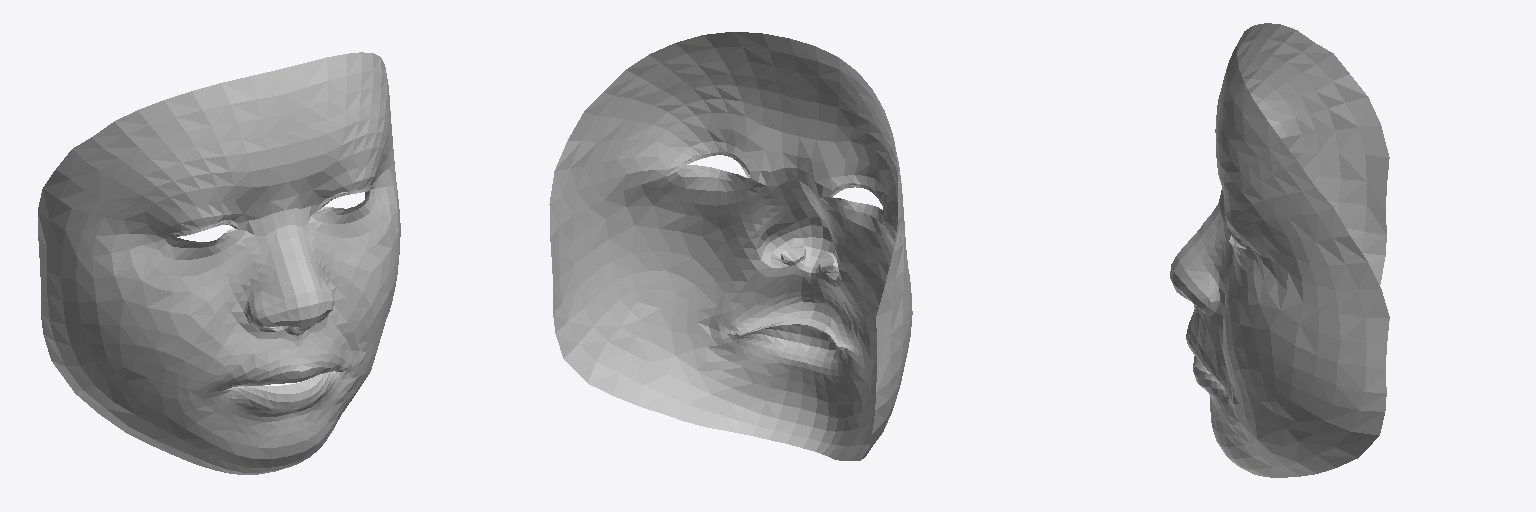
Rendered from mouthFrown_L.obj.
3 renders of one model, left to right at view 1: azimuth 30°, elevation 25°; view 2: azimuth 150°, elevation 25°; view 3: azimuth 270°, elevation 25°, orthographic.
Visible parts, largest first — view 1: default; view 2: default; view 3: default.
Boxes of the visible parts, x1=… form: default: x1=38, y1=52, x2=400, y2=474; default: x1=549, y1=32, x2=912, y2=460; default: x1=1170, y1=23, x2=1389, y2=477.
Size of the model in its own units: 0.1624 by 0.1851 by 0.0913.